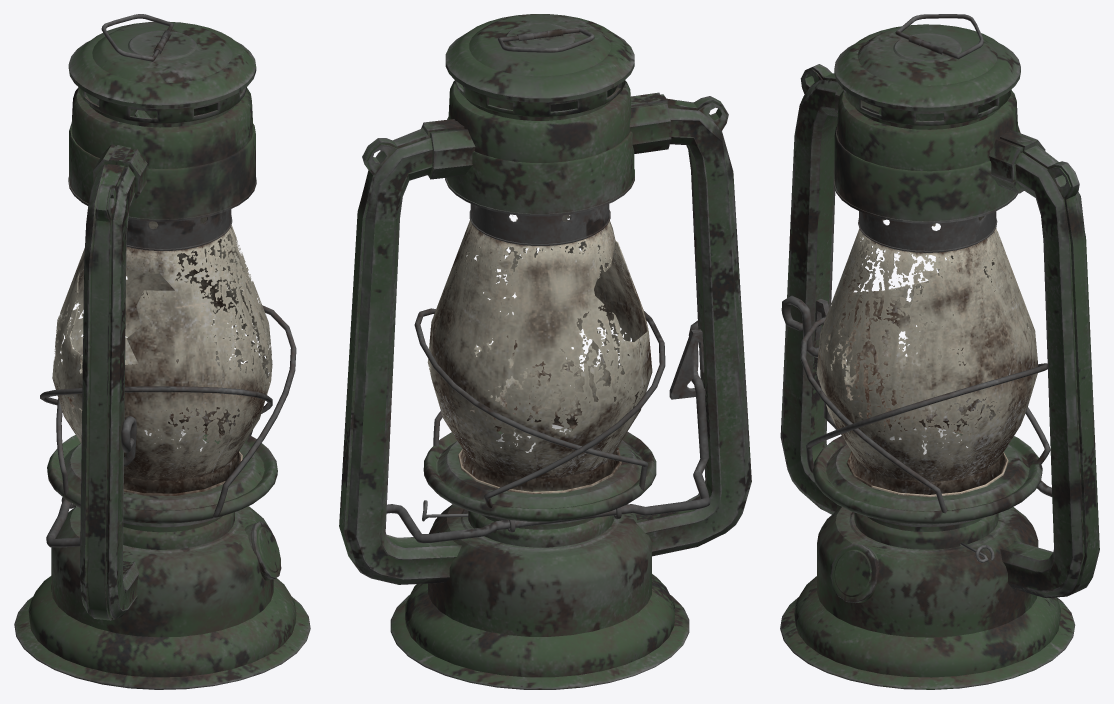
The model's file is Lantern-03.fbx.
3 renders of one model, left to right at view 1: azimuth 30°, elevation 25°; view 2: azimuth 150°, elevation 25°; view 3: azimuth 270°, elevation 25°, orthographic.
Visible parts, largest first — view 1: lanterm; view 2: lanterm; view 3: lanterm.
Boxes of the visible parts, x1,y1,x2,y2 form: lanterm: [14, 14, 310, 689]; lanterm: [339, 14, 751, 689]; lanterm: [780, 14, 1099, 689].
Bounding box in the file's own units: 2.12 × 4.45 × 2.17.
1 material, 1 textured.
